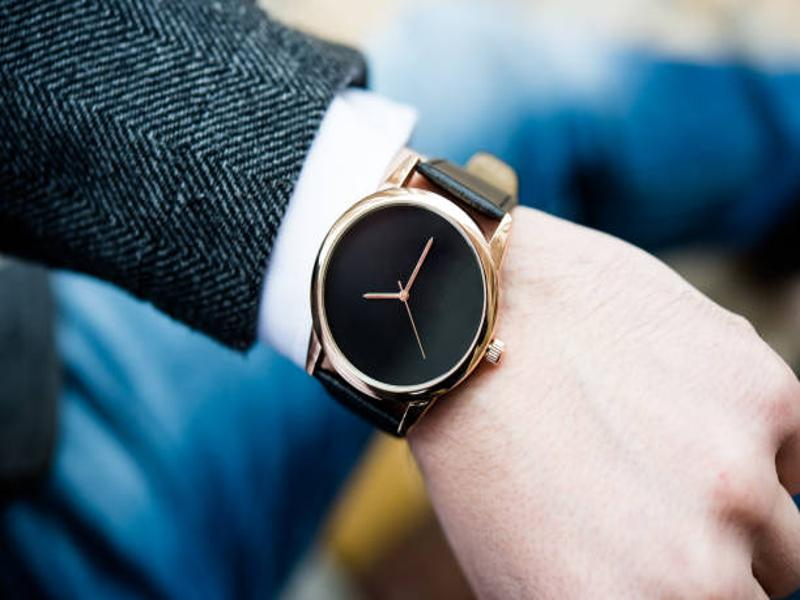watch: (301, 155, 519, 438)
